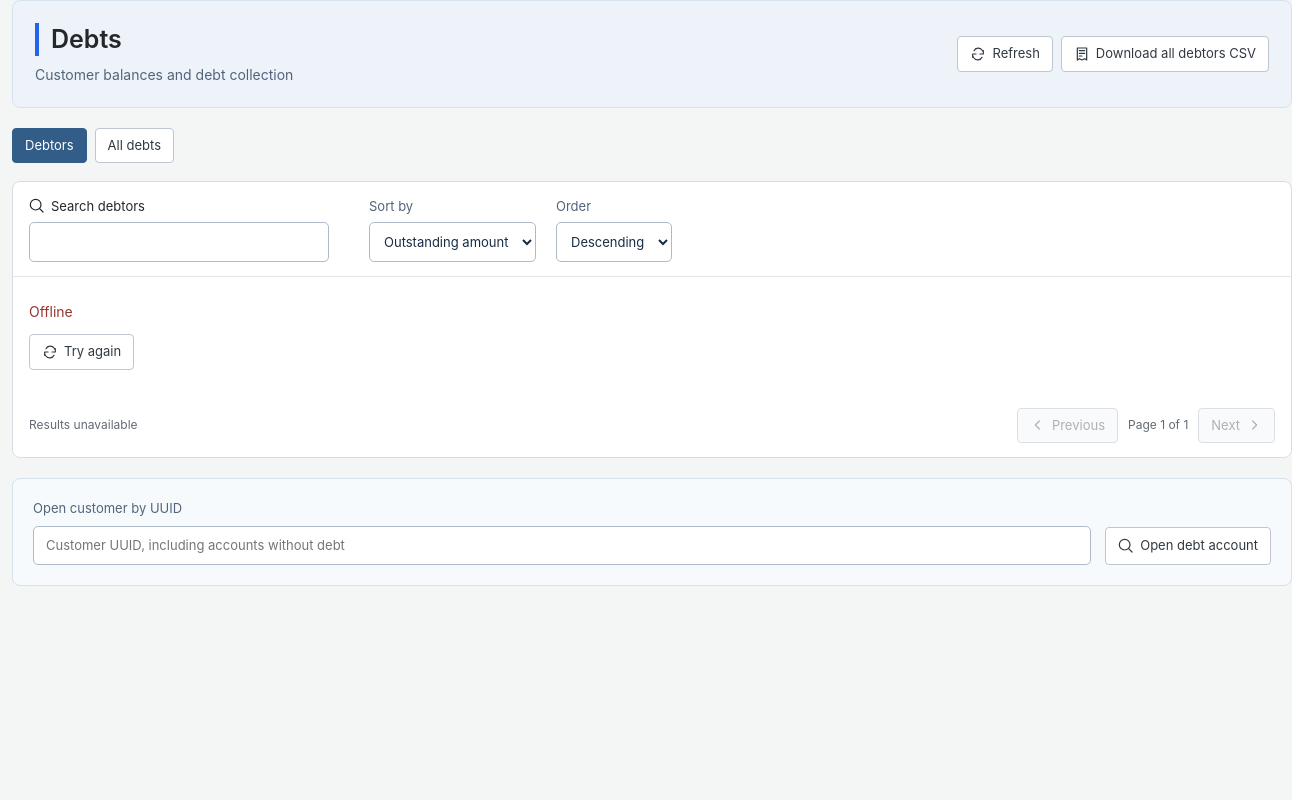
Scenario: shows empty lists and retries failed loads
Expected: the text "Offline" is shown, [29, 303, 73, 320]
Click the button "Try again".
click(82, 352)  # box [29, 334, 134, 370]
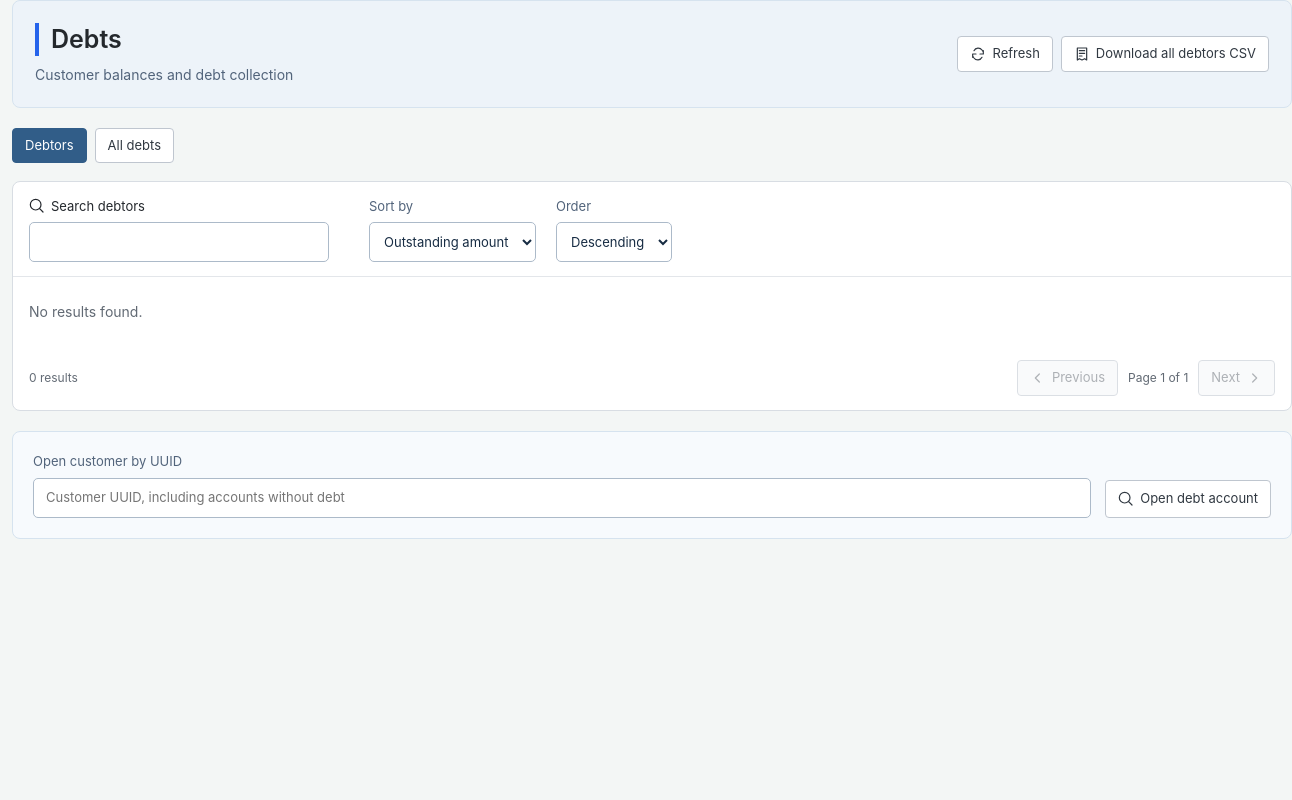
Now the text "0 results" is shown, box [29, 369, 78, 387]
